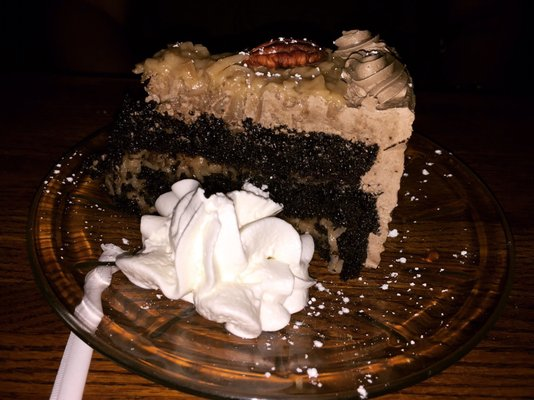curry: (3, 2, 495, 398)
sushi: (99, 29, 417, 280)
